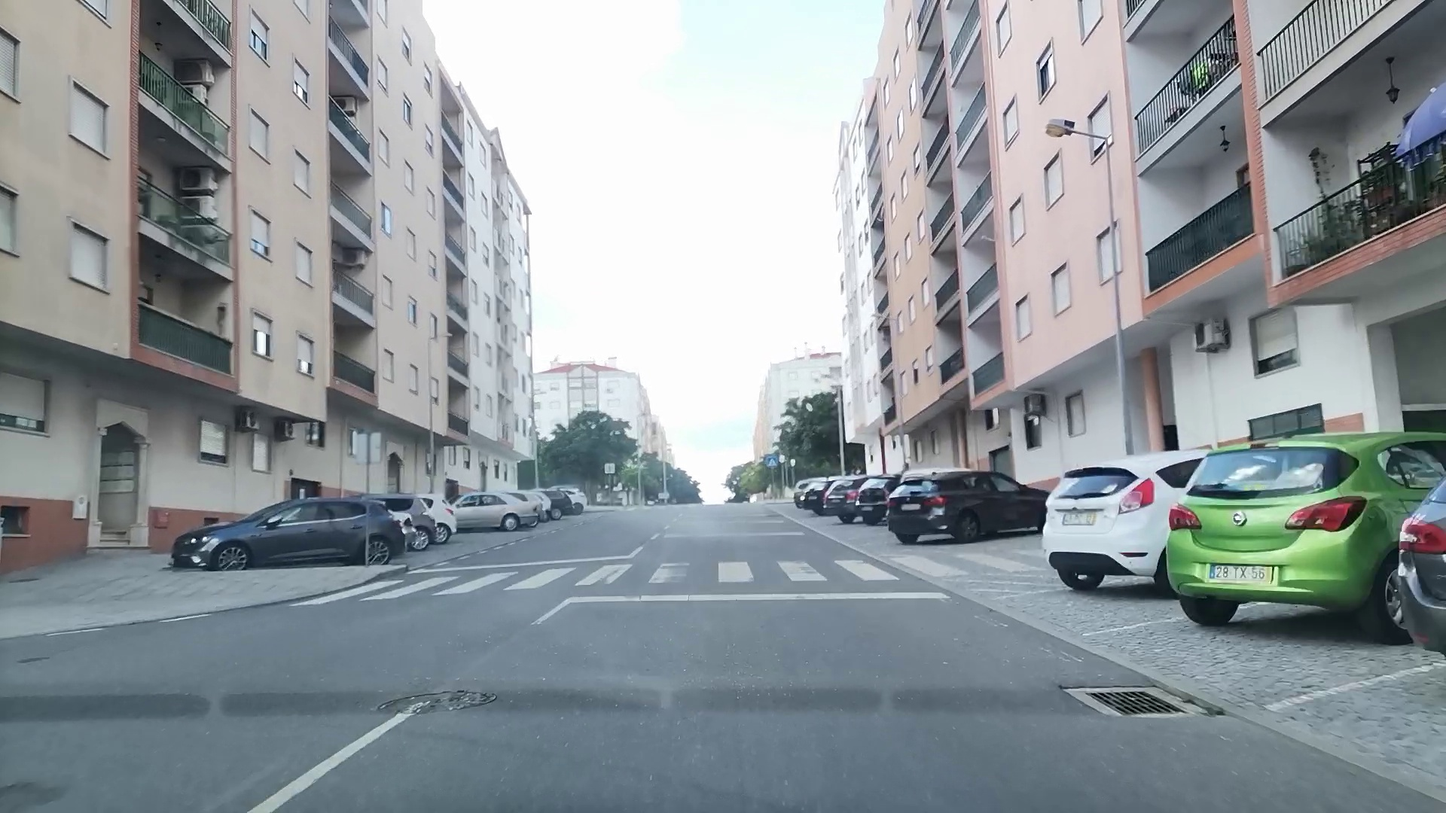Stairs: (296, 553, 896, 606)
